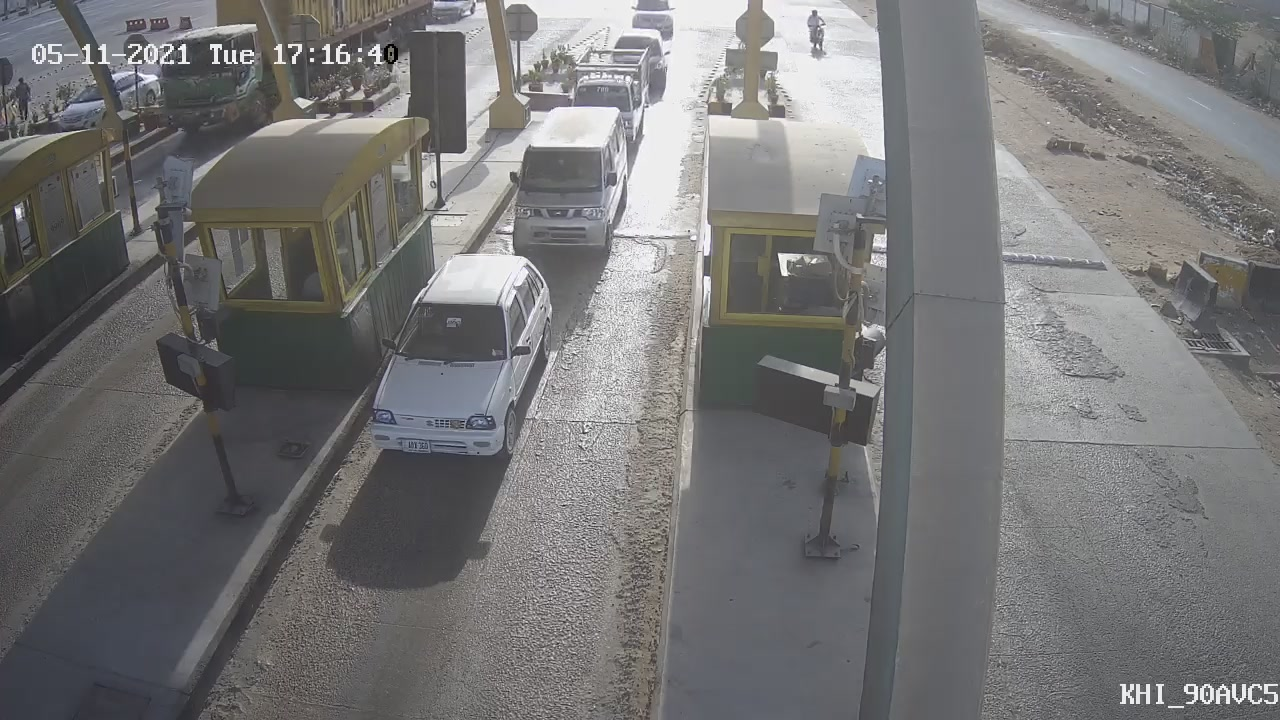F1: (342, 235, 566, 481), (491, 91, 646, 270)
